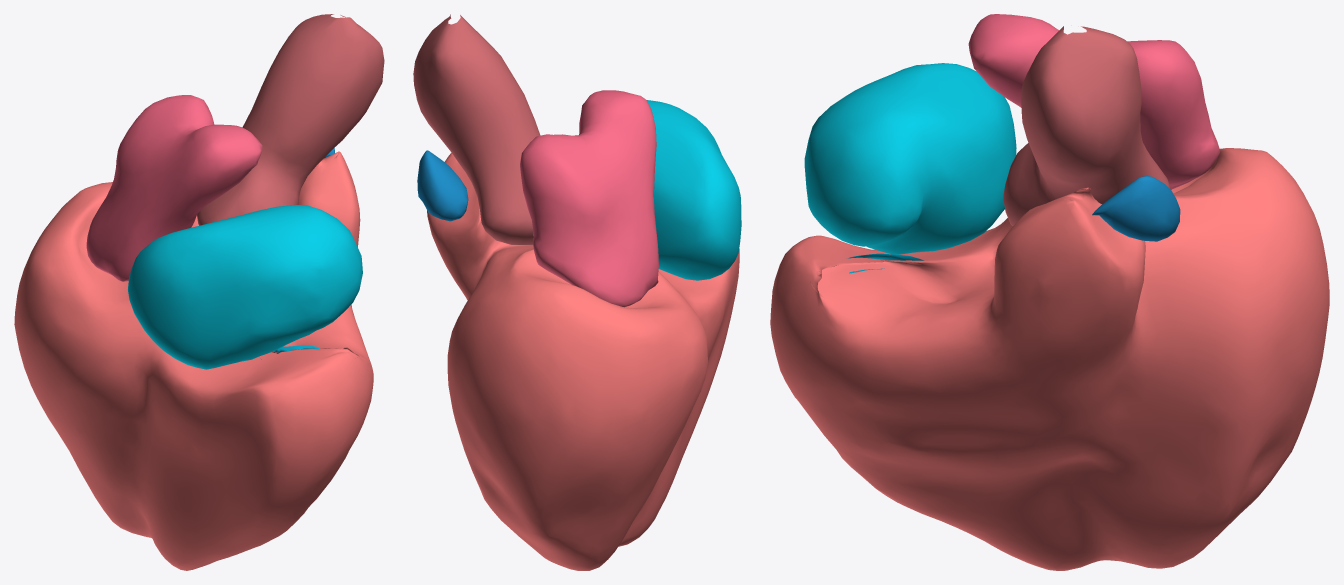
Rendered from frame_42.glb.
3 renders of one model, left to right at view 1: azimuth 30°, elevation 25°; view 2: azimuth 150°, elevation 25°; view 3: azimuth 270°, elevation 25°, orthographic. The views are drawn at different scales.
Visible parts, largest first — view 1: Renderer Node; view 2: Renderer Node; view 3: Renderer Node.
Boxes of the visible parts, x1,y1,x2,y2 form: Renderer Node: [14, 14, 384, 570]; Renderer Node: [413, 14, 741, 570]; Renderer Node: [770, 14, 1329, 570].
Size of the model in its own units: 102 by 159 by 125.
